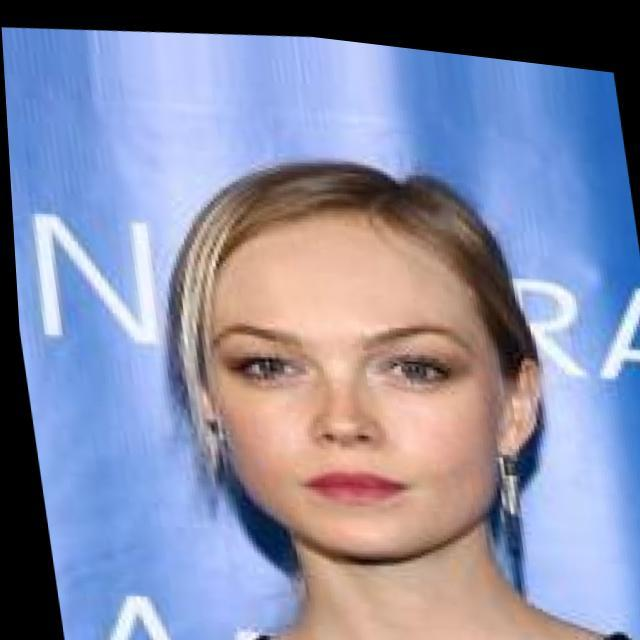Nonhelmet: (161, 156, 547, 566)
